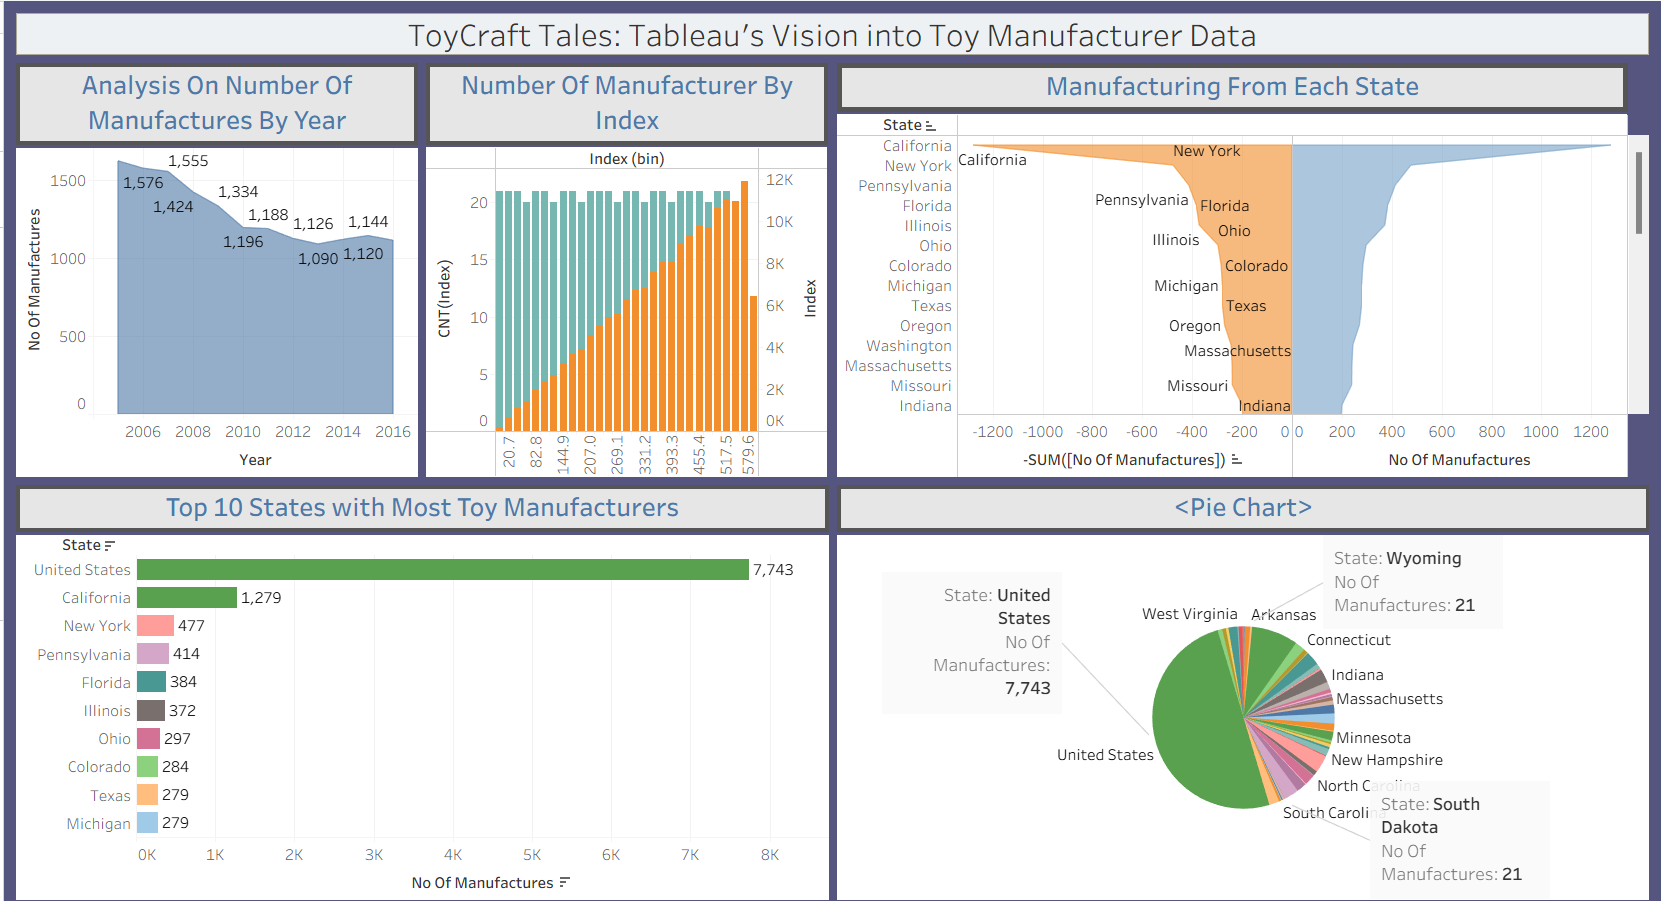

The dashboard page shown, as its layout file describes it:
{"tool":"tableau","page":{"name":"ToyCraft Tales: Tableau's Vision into Toy Manufacturer Data","canvas":[1000,1000],"units":"permille","ordinal":0},"visuals":[{"type":"title","box":[4.8,8.8,990.3,54.9]},{"type":"worksheet","title":"Analysis On Number Of Manufactures By Year","mark":"Automatic","rows":["no_of_manufactures"],"cols":["Year"],"box":[4.8,63.7,247.6,463.2]},{"type":"worksheet","title":"Number Of Manufacturer By Index","mark":"Bar","rows":["Calculation_2516667790833565698","index"],"cols":["Index (bin)"],"box":[252.4,63.7,247.6,463.2]},{"type":"worksheet","title":"Manufacturing From Each State","mark":"Area","rows":["State"],"cols":["Calculation_2170172094792650755","no_of_manufactures"],"box":[500,63.7,495.2,463.8]},{"type":"worksheet","title":"Top 10 States with Most Toy Manufacturers","mark":"Automatic","rows":["State"],"cols":["no_of_manufactures"],"box":[4.8,526.9,495.2,464.3]},{"type":"worksheet","title":"Pie Chart","mark":"Pie","box":[500,527.4,495.2,463.8]}]}

Visuals, with their boxes on the dashboard's canvas, which has no fixed pixel size, in thousandths of its width and height (x1, y1, x2, y2). These are canvas units, not pixel positions in the 1661x901 screenshot, which may show the page scaled, cropped or inside an application window:
title: BBox(5, 9, 995, 64)
"Analysis On Number Of Manufactures By Year" worksheet: BBox(5, 64, 252, 527)
"Number Of Manufacturer By Index" worksheet (Bar marks): BBox(252, 64, 500, 527)
"Manufacturing From Each State" worksheet (Area marks): BBox(500, 64, 995, 528)
"Top 10 States with Most Toy Manufacturers" worksheet: BBox(5, 527, 500, 991)
"Pie Chart" worksheet (Pie marks): BBox(500, 527, 995, 991)
